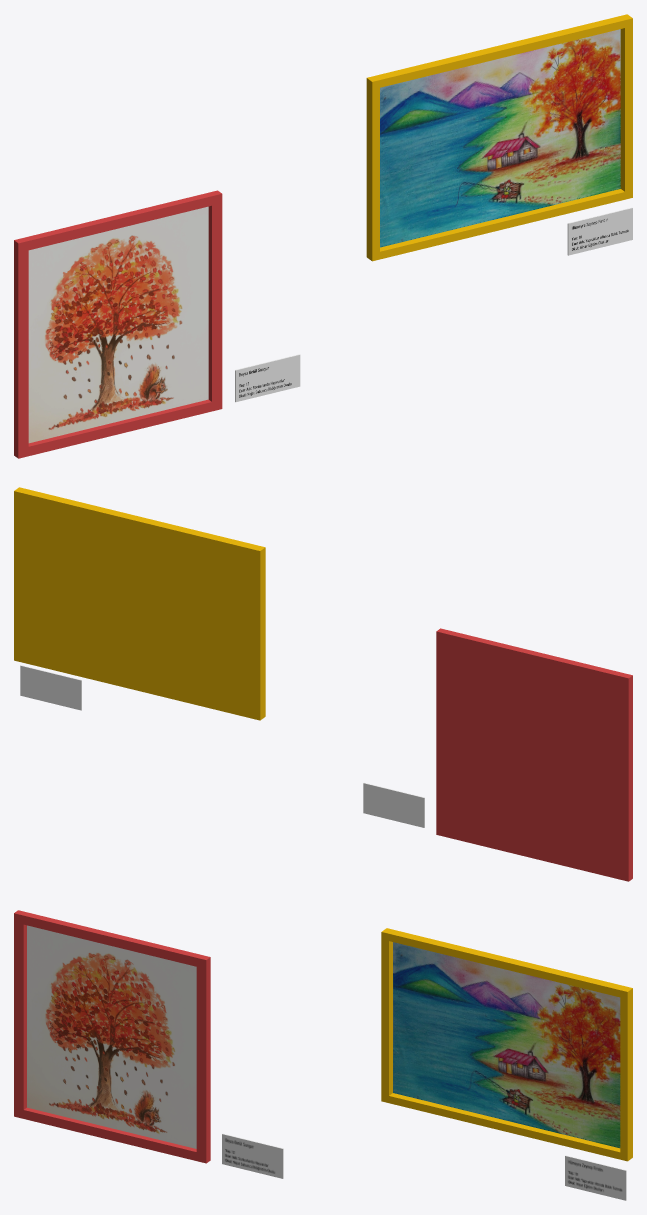
Rendered from asset.gltf.
3 views of the same model, one above another, from view 1: azimuth 30°, elevation 25°; view 2: azimuth 150°, elevation 25°; view 3: azimuth 330°, elevation 25° (orthographic). The views are drawn at different scales.
Parts seen in each view (by area): view 1: polySurface550; view 2: polySurface550; view 3: polySurface550.
Part boxes in pixels (<box>): polySurface550: <box>14,14,632,458</box>; polySurface550: <box>14,487,632,881</box>; polySurface550: <box>14,910,632,1200</box>.
Size of the model in its own units: 9.77 by 4.03 by 0.6232.
Materials: 8 (4 with a texture image).
